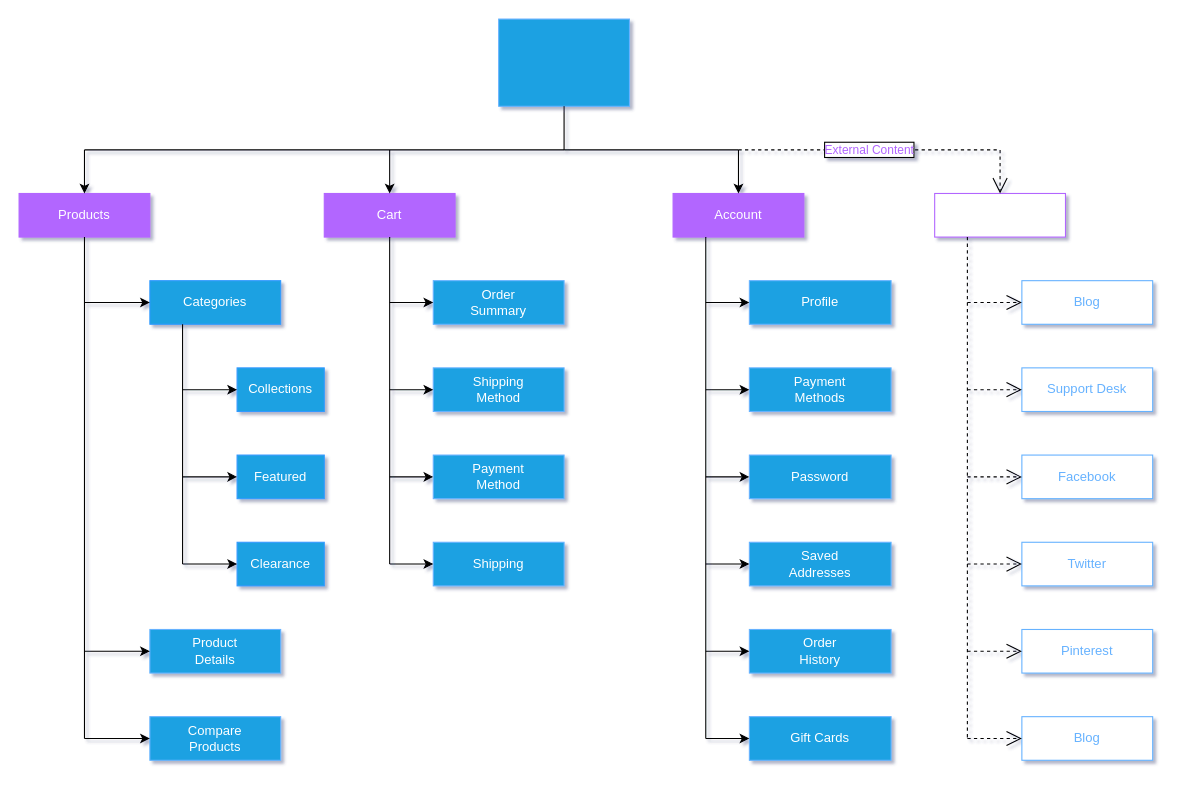
This 1178x786 diagram has some shape labels left out. The shapes that lost their labels are listed below. From the top down, each one's centre as x and y in pixels, then its label:
[563,62]: Home
[999,214]: Other Pages
